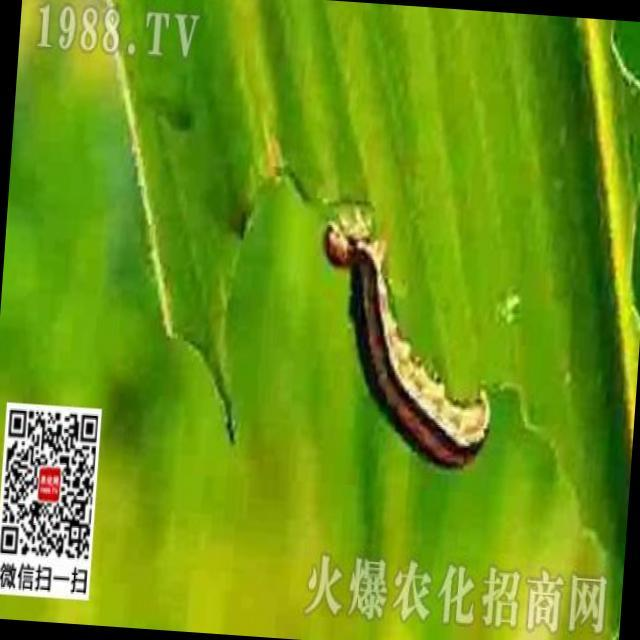Plaga: (297, 213, 507, 482)
